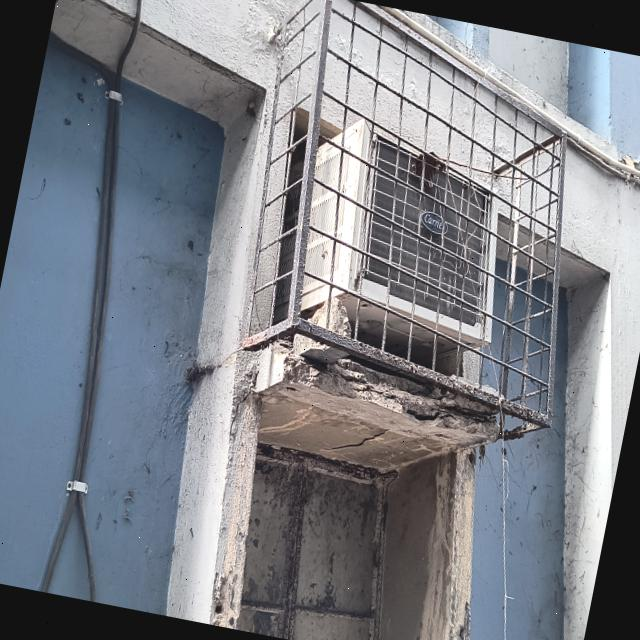Crack: (315, 427, 394, 456), (227, 385, 255, 451)
Paint Peeling: (600, 144, 640, 209)
Spalling: (253, 328, 510, 443)
